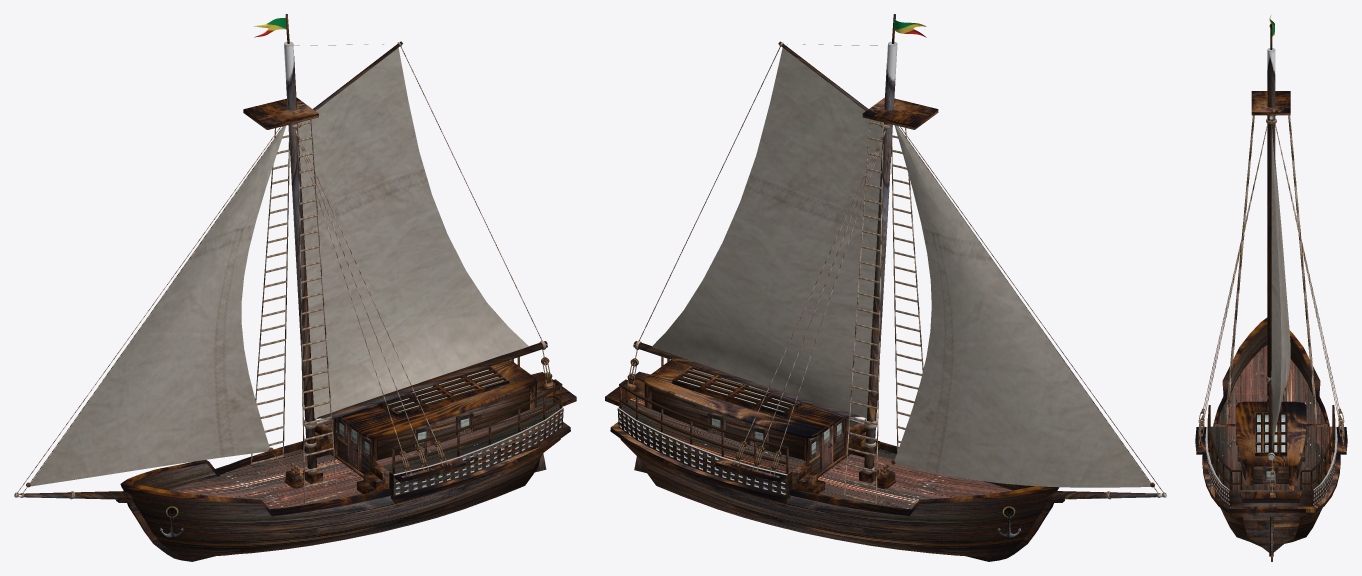
The model's file is ship_02.glb.
The picture shows the model from 3 angles, left to right: view 1: azimuth 30°, elevation 25°; view 2: azimuth 150°, elevation 25°; view 3: azimuth 270°, elevation 25°; orthographic projection. The views are drawn at different scales.
Visible parts, largest first — view 1: Object_3, Object_8, Object_31, Object_21, Object_9, Object_2, Object_12; view 2: Object_3, Object_8, Object_31, Object_21, Object_9, Object_2, Object_12; view 3: Object_31, Object_21, Object_8, Object_9, Object_3, Object_2, Object_12, Object_26.
Part boxes in pixels (box(x1,y1,x2,y2)): Object_3: box(30, 47, 528, 486); Object_8: box(14, 41, 563, 556); Object_31: box(26, 14, 576, 561); Object_21: box(168, 389, 562, 516); Object_9: box(15, 42, 552, 503); Object_2: box(337, 387, 529, 495); Object_12: box(339, 369, 503, 454); Object_3: box(651, 48, 1150, 487); Object_8: box(617, 41, 1166, 557); Object_31: box(605, 14, 1154, 561); Object_21: box(619, 388, 1012, 516); Object_9: box(628, 42, 1165, 503); Object_2: box(652, 387, 847, 495); Object_12: box(678, 369, 841, 454); Object_31: box(1195, 23, 1347, 556); Object_21: box(1207, 345, 1335, 561); Object_8: box(1205, 48, 1337, 552); Object_9: box(1198, 115, 1344, 494); Object_3: box(1271, 125, 1290, 449); Object_2: box(1230, 457, 1312, 552); Object_12: box(1257, 414, 1285, 480); Object_26: box(1199, 408, 1343, 497).
Bounding box in the file's own units: 8.19 × 7.52 × 2.38.
Materials: 12 (12 with a texture image).
